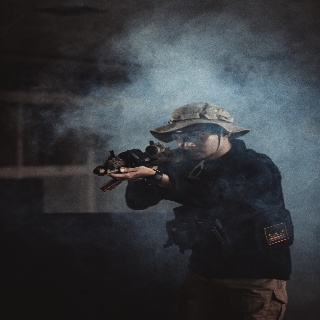rifle: (92, 139, 186, 195)
